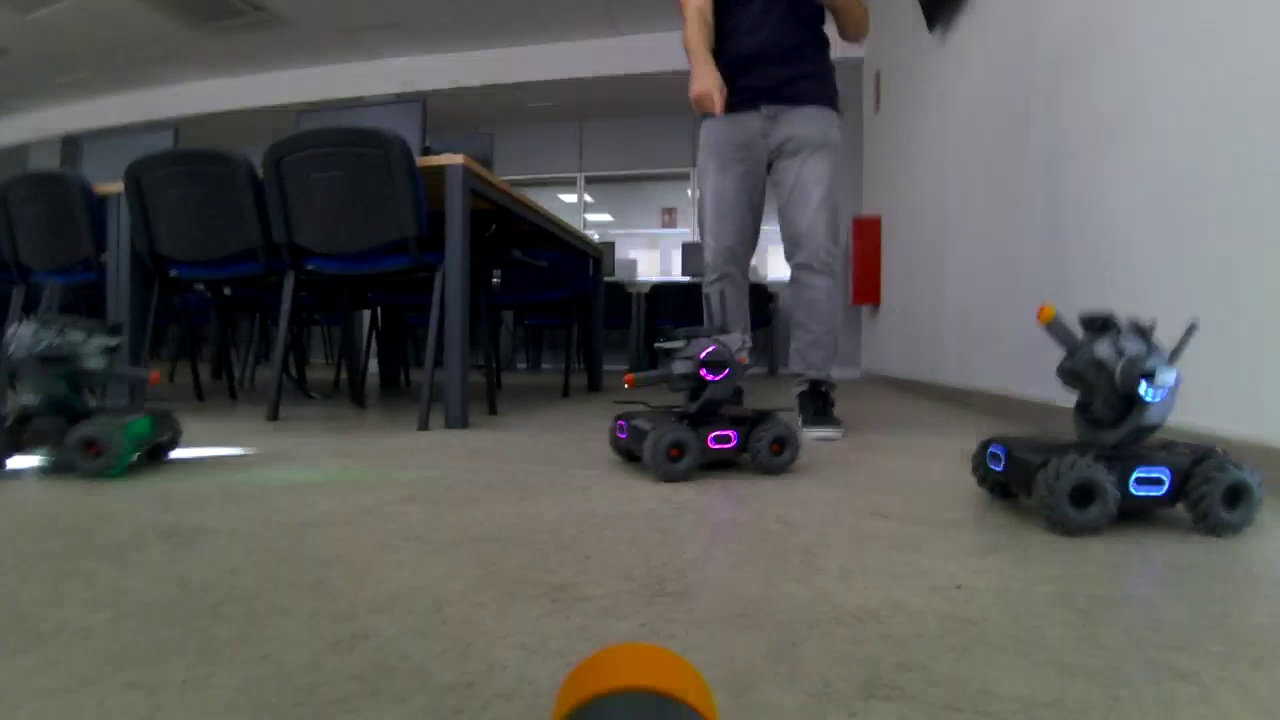robot: (974, 310, 1254, 540), (618, 317, 797, 479)
